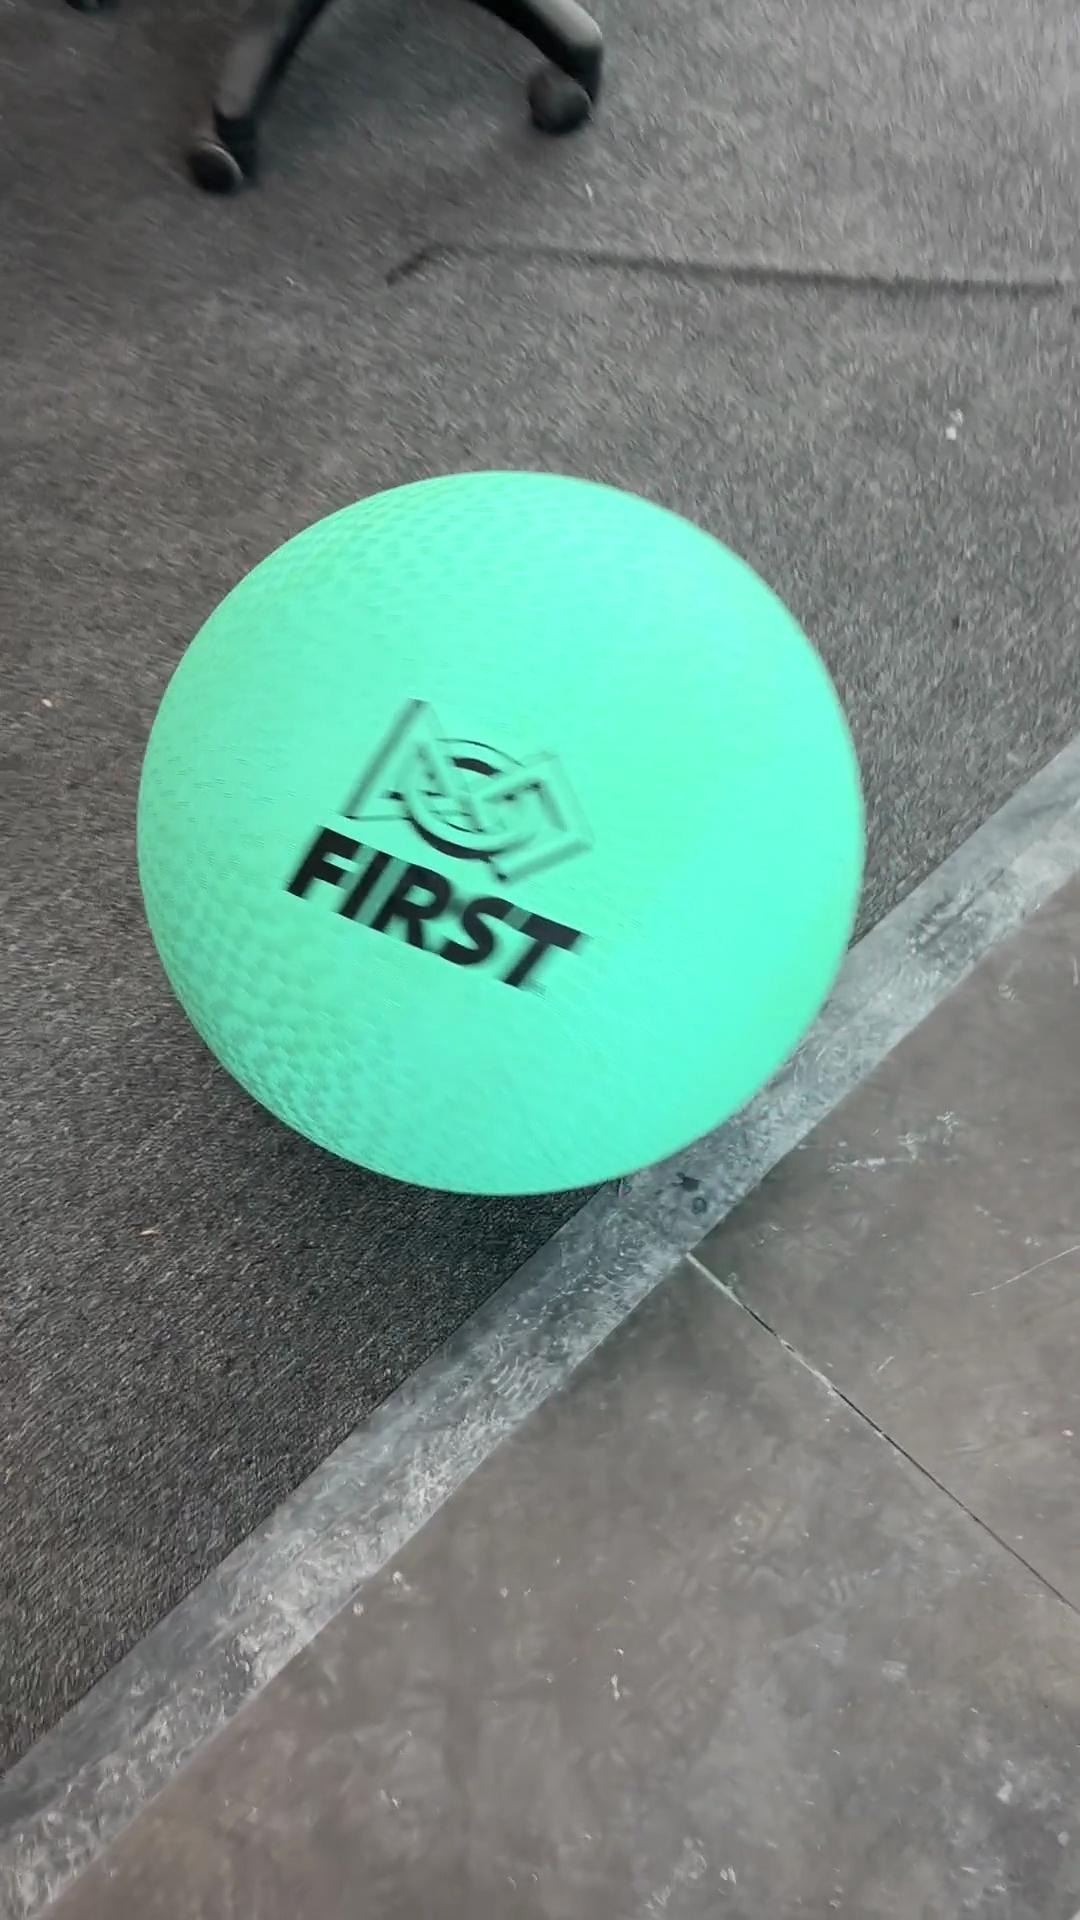ALGAE: (133, 465, 869, 1199)
